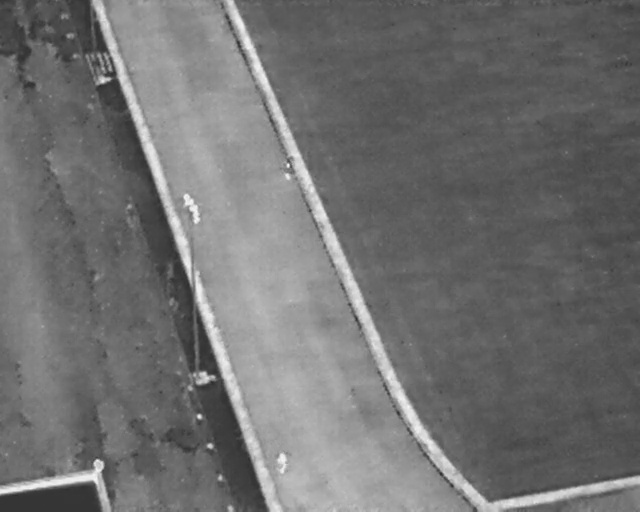Person: (275, 451, 288, 476), (282, 159, 294, 182), (188, 205, 202, 224), (183, 192, 194, 207)
